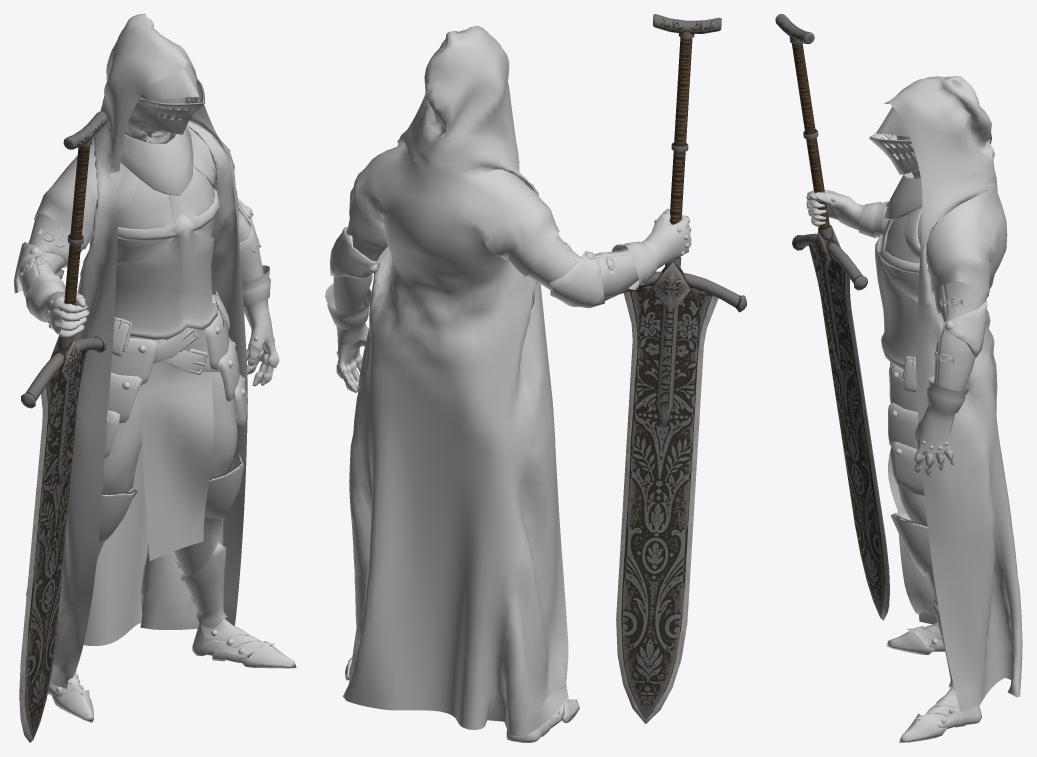
The model's file is ggfggf.fbx.
3 renders of one model, left to right at view 1: azimuth 30°, elevation 25°; view 2: azimuth 150°, elevation 25°; view 3: azimuth 270°, elevation 25°, orthographic. The views are drawn at different scales.
Parts seen in each view (by area): view 1: polySurface1125, polySurface1119; view 2: polySurface1125, polySurface1119; view 3: polySurface1125, polySurface1119.
Boxes of the visible parts, left/top/right/bottom form: polySurface1125: left=14, top=14, right=296, bottom=722; polySurface1119: left=19, top=111, right=107, bottom=742; polySurface1125: left=325, top=25, right=691, bottom=742; polySurface1119: left=604, top=14, right=746, bottom=723; polySurface1125: left=806, top=76, right=1022, bottom=742; polySurface1119: left=775, top=14, right=889, bottom=620.
Bounding box in the file's own units: 95.55 × 185 × 67.77.
